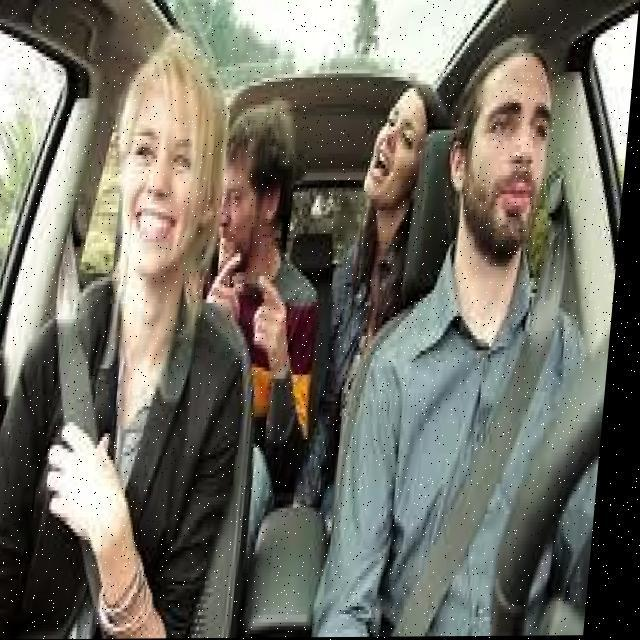seatbelt: (23, 302, 240, 638), (376, 292, 582, 638)
